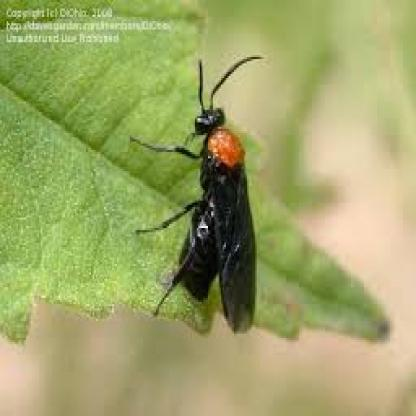sawfly: (134, 43, 258, 350)
